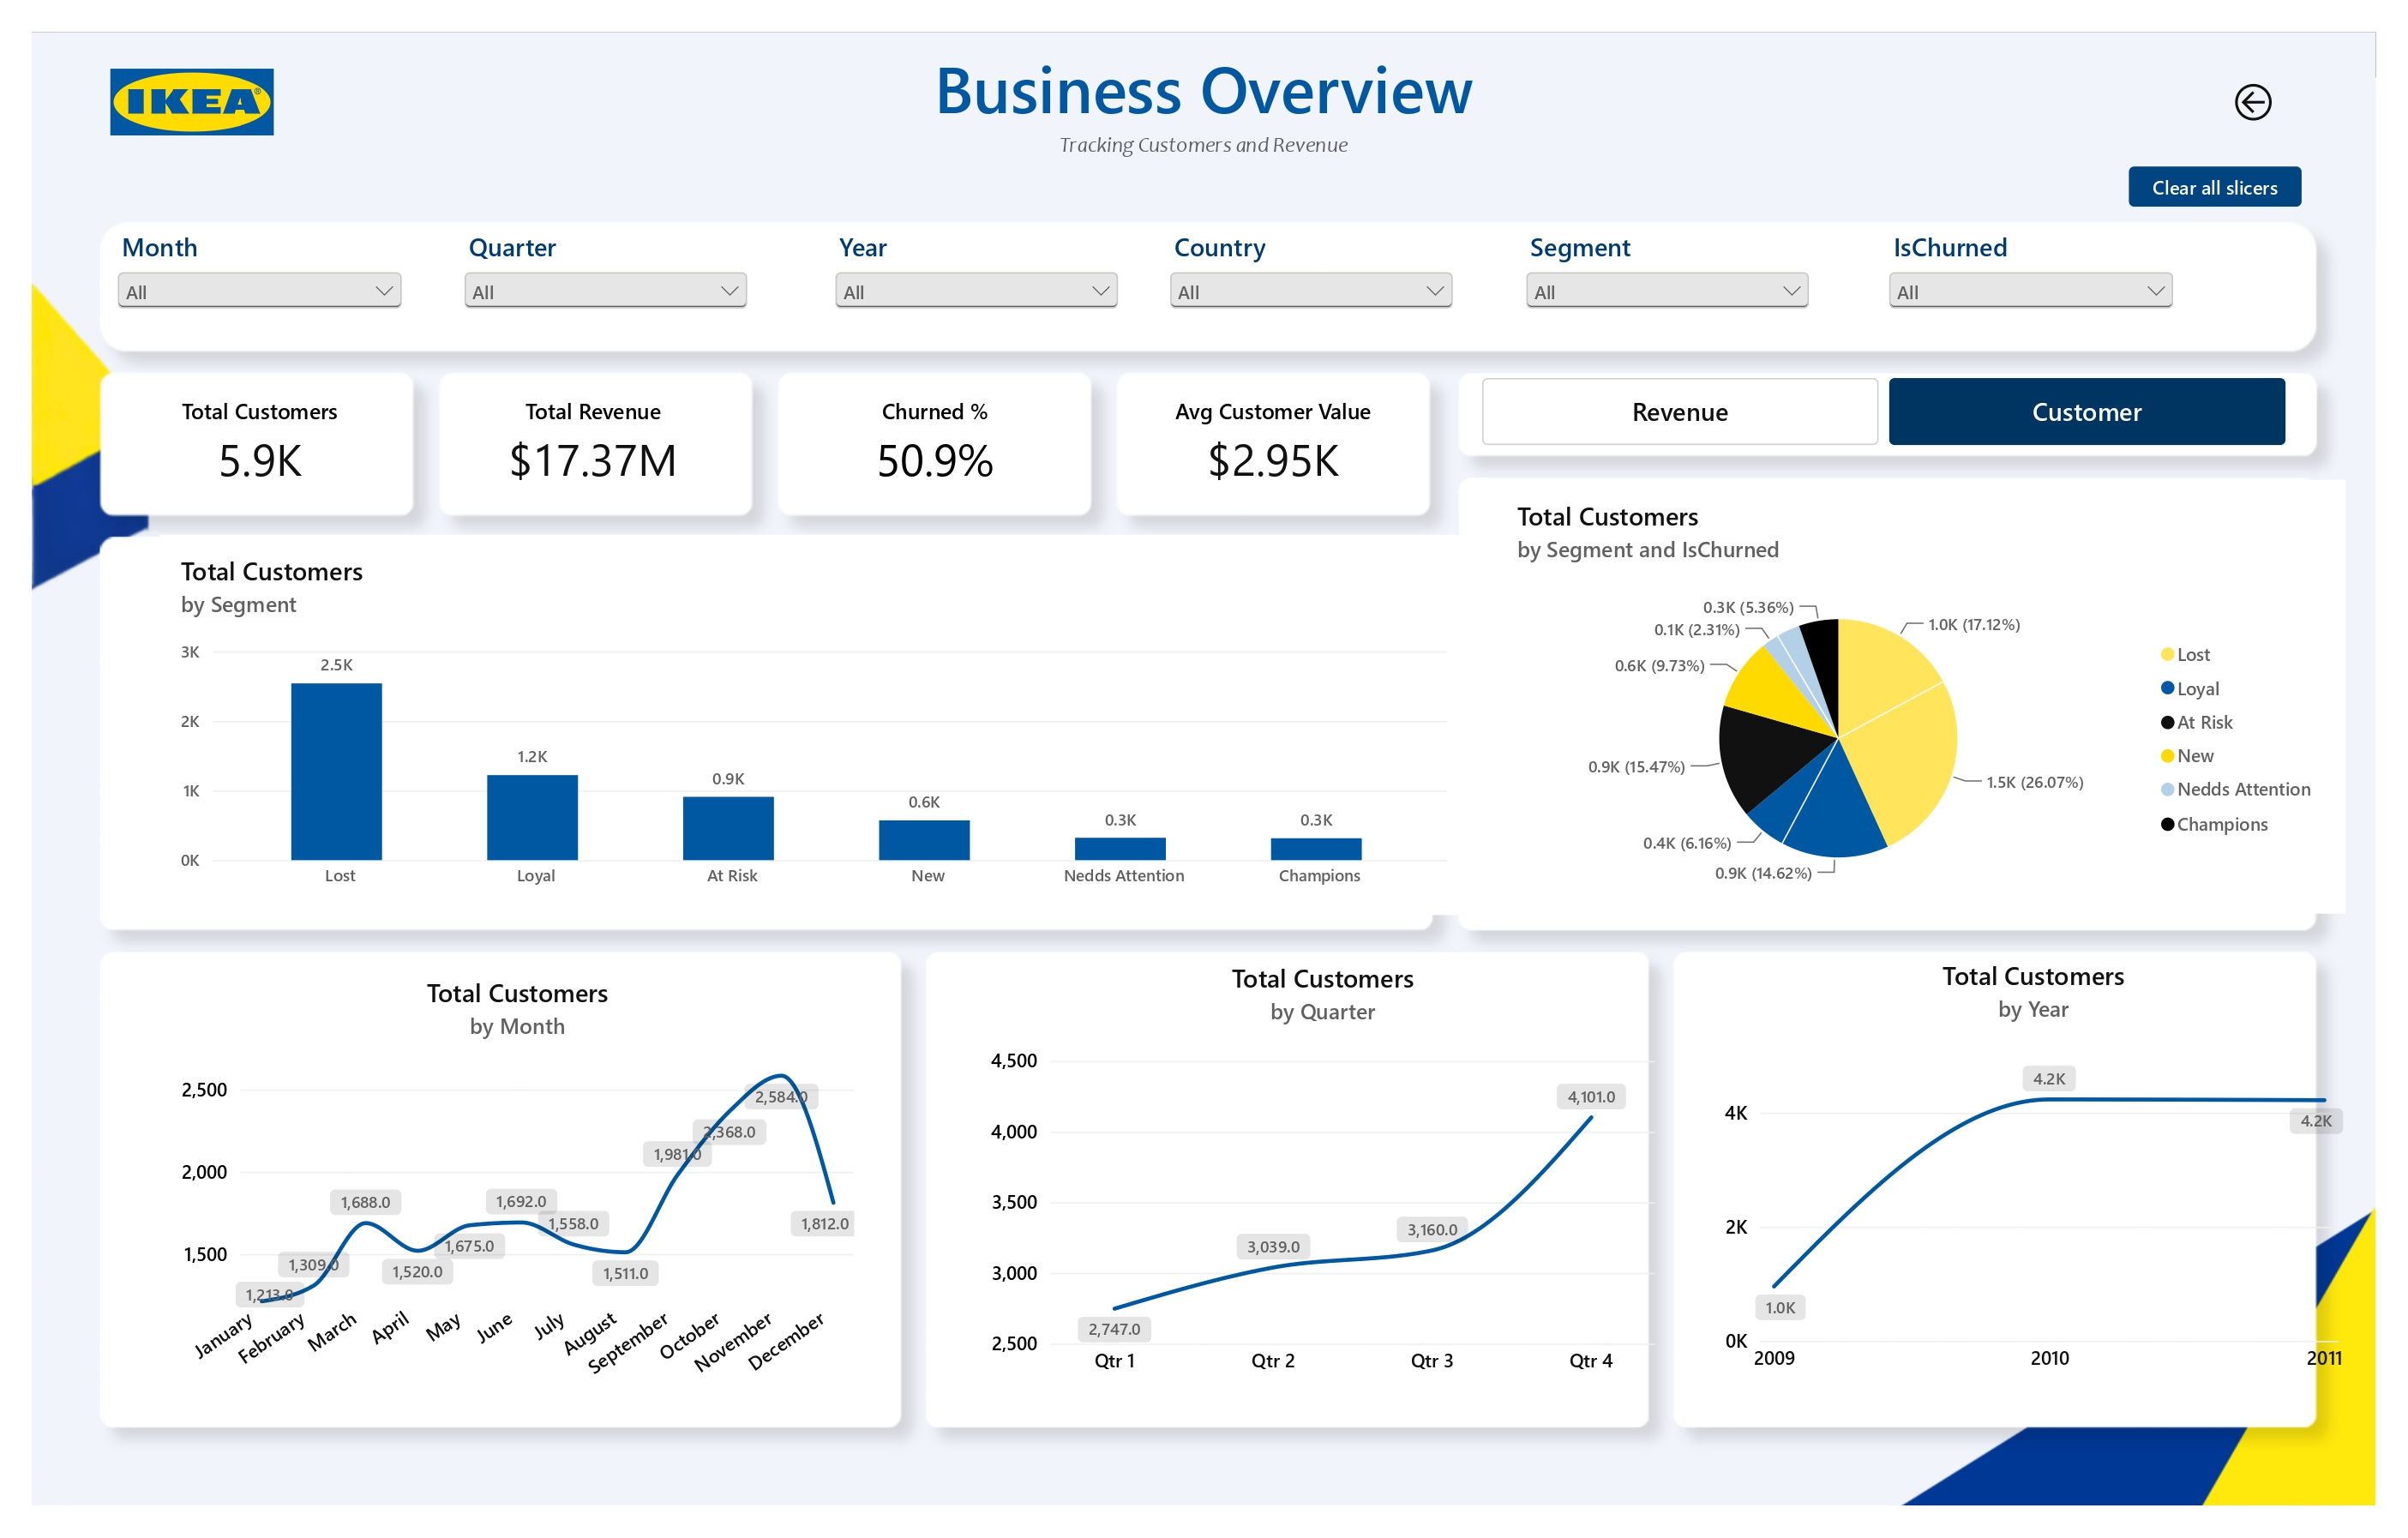

What the dashboard file says about the page in this screenshot:
{"tool":"powerbi","page":{"name":"Overview","canvas":[1750,1100],"ordinal":2},"visuals":[{"type":"cardVisual","fields":{"Data":["Sheet1.Total Customers"]},"box":[59.5,258.1,221.6,95.9],"z":0},{"type":"lineChart","fields":{"Category":["Sheet1.InvoiceDate.Variation.Date Hierarchy.Month"],"Y":["Sheet1.Total Customers"]},"box":[95,690.4,535.1,344.6],"z":0,"group":"g1"},{"type":"cardVisual","fields":{"Data":["Sheet1.Total Revenue"]},"box":[317.6,258.1,202.7,95.9],"z":1000},{"type":"lineChart","fields":{"Category":["Sheet1.InvoiceDate.Variation.Date Hierarchy.Quarter"],"Y":["Sheet1.Total Customers"]},"box":[700,678.8,528.4,344.6],"z":1000,"group":"g1"},{"type":"cardVisual","fields":{"Data":["Sheet1.Churned %"]},"box":[573,258.1,202.7,95.9],"z":2000},{"type":"lineChart","fields":{"Category":["Sheet1.InvoiceDate.Variation.Date Hierarchy.Year"],"Y":["Sheet1.Total Customers"]},"box":[1248.3,677.1,493.2,344.6],"z":2000,"group":"g1"},{"type":"cardVisual","fields":{"Data":["Sheet1.Avg Customer Value"]},"box":[816.2,258.1,221.6,95.9],"z":3000},{"type":"columnChart","fields":{"Category":["Sheet1.Segment"],"Y":["Sheet1.Total Customers"]},"box":[95,375.4,978.4,283.8],"z":3000,"group":"g1"},{"type":"slicer","fields":{"Values":["Sheet1.InvoiceDate.Variation.Date Hierarchy.Month"]},"box":[59.5,147.3,221.6,83.8],"z":4000},{"type":"pieChart","fields":{"Category":["Sheet1.Segment"],"Series":["Sheet1.IsChurned"],"Y":["Sheet1.Total Customers"]},"box":[1093.3,333.8,635.1,324.3],"z":4000,"group":"g1"},{"type":"slicer","fields":{"Values":["Sheet1.InvoiceDate.Variation.Date Hierarchy.Year"]},"box":[594.6,147.3,221.6,83.8],"z":5000},{"type":"slicer","fields":{"Values":["Sheet1.InvoiceDate.Variation.Date Hierarchy.Quarter"]},"box":[317.6,147.3,221.6,83.8],"z":6000},{"type":"slicer","fields":{"Values":["Sheet1.IsChurned"]},"box":[1382.4,147.3,221.6,83.8],"z":7000},{"type":"slicer","fields":{"Values":["Sheet1.Segment"]},"box":[1110.8,147.3,221.6,83.8],"z":8000},{"type":"slicer","fields":{"Values":["Sheet1.Country"]},"box":[844.6,147.3,221.6,83.8],"z":9000},{"type":"group","id":"g1","title":"Customer","box":[2,-0.8,1739.5,1035.8],"z":10000},{"type":"bookmarkNavigator","box":[1082.5,257.5,600,50],"z":12000},{"type":"image","box":[2,-0.8,235,106.2],"z":12001,"group":"g1"},{"type":"textbox","title":"Business Overview","box":[628.8,7.5,492.5,122.5],"z":13000},{"type":"actionButton","box":[1603.8,3.8,110,96.2],"z":14000},{"type":"actionButton","box":[1566.2,100,128.8,30],"z":15000}]}

Visuals, with their boxes on the page's 1750x1100 design canvas (x1, y1, x2, y2). These are canvas units, not pixel positions in the 2408x1538 screenshot, which may show the page scaled, cropped or inside an application window:
cardVisual - Sheet1.Total Customers: [x1=60, y1=258, x2=281, y2=354]
lineChart - Sheet1.InvoiceDate.Variation.Date Hierarchy.Month x Sheet1.Total Customers: [x1=95, y1=690, x2=630, y2=1035]
cardVisual - Sheet1.Total Revenue: [x1=318, y1=258, x2=520, y2=354]
lineChart - Sheet1.InvoiceDate.Variation.Date Hierarchy.Quarter x Sheet1.Total Customers: [x1=700, y1=679, x2=1228, y2=1023]
cardVisual - Sheet1.Churned %: [x1=573, y1=258, x2=776, y2=354]
lineChart - Sheet1.InvoiceDate.Variation.Date Hierarchy.Year x Sheet1.Total Customers: [x1=1248, y1=677, x2=1742, y2=1022]
cardVisual - Sheet1.Avg Customer Value: [x1=816, y1=258, x2=1038, y2=354]
columnChart - Sheet1.Segment x Sheet1.Total Customers: [x1=95, y1=375, x2=1073, y2=659]
slicer - Sheet1.InvoiceDate.Variation.Date Hierarchy.Month: [x1=60, y1=147, x2=281, y2=231]
pieChart - Sheet1.Segment x Sheet1.IsChurned: [x1=1093, y1=334, x2=1728, y2=658]
slicer - Sheet1.InvoiceDate.Variation.Date Hierarchy.Year: [x1=595, y1=147, x2=816, y2=231]
slicer - Sheet1.InvoiceDate.Variation.Date Hierarchy.Quarter: [x1=318, y1=147, x2=539, y2=231]
slicer - Sheet1.IsChurned: [x1=1382, y1=147, x2=1604, y2=231]
slicer - Sheet1.Segment: [x1=1111, y1=147, x2=1332, y2=231]
slicer - Sheet1.Country: [x1=845, y1=147, x2=1066, y2=231]
"Customer" group: [x1=2, y1=-1, x2=1742, y2=1035]
bookmarkNavigator: [x1=1082, y1=258, x2=1682, y2=308]
image: [x1=2, y1=-1, x2=237, y2=105]
"Business Overview" textbox: [x1=629, y1=8, x2=1121, y2=130]
actionButton: [x1=1604, y1=4, x2=1714, y2=100]
actionButton: [x1=1566, y1=100, x2=1695, y2=130]
